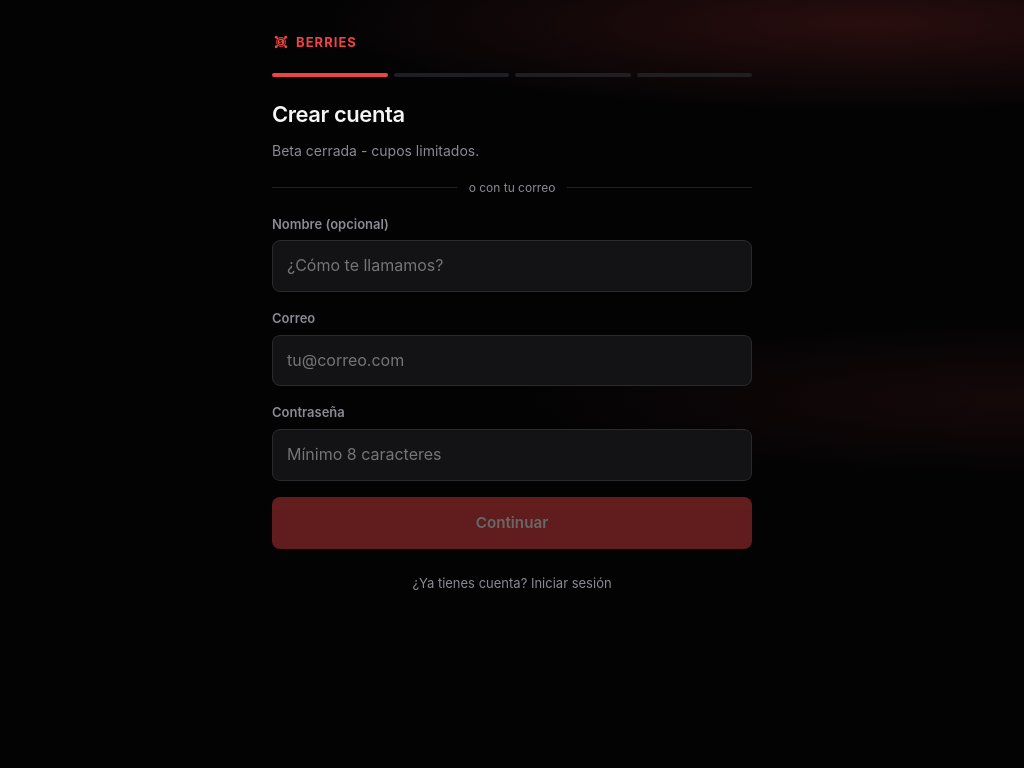
it: RegisterWizard › agregar una billetera la suma a la lista y limpia el mini-formulario
Type "ash@example.com" into the field labelled "Correo" at coordinates (512, 361), box top-left (272, 335), bottom-right (752, 386)
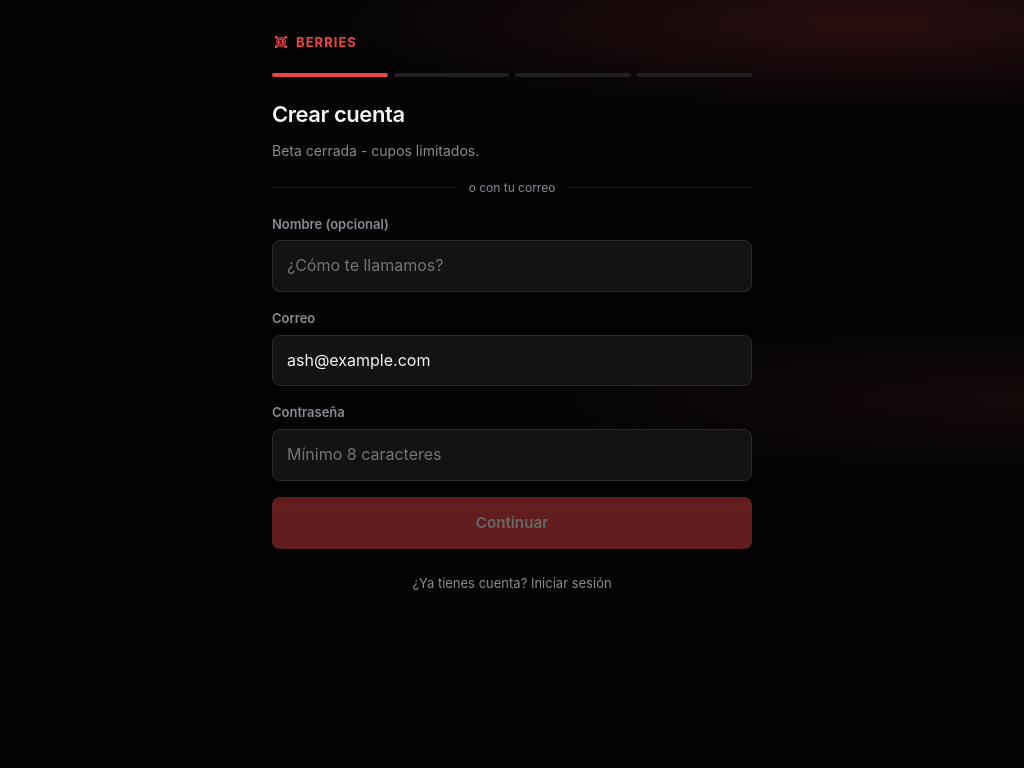
Type "clave12345" into the password field labelled "Contraseña" at coordinates (512, 455), box top-left (272, 429), bottom-right (752, 481)
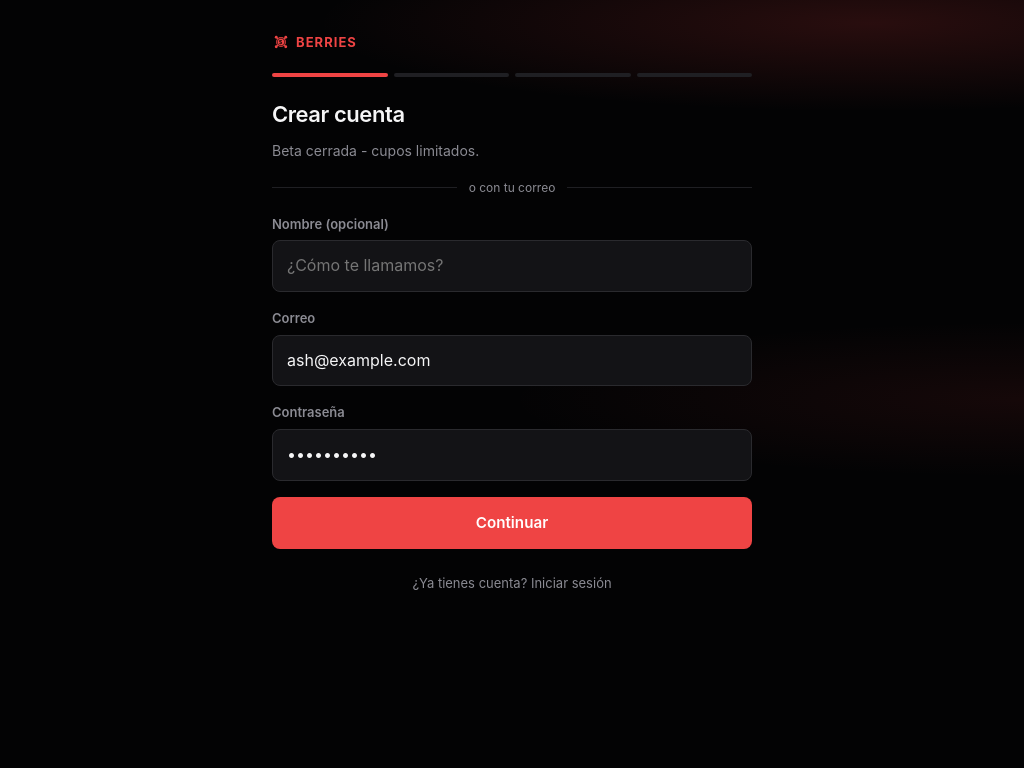
Submit the form, box top-left (272, 214), bottom-right (752, 549)
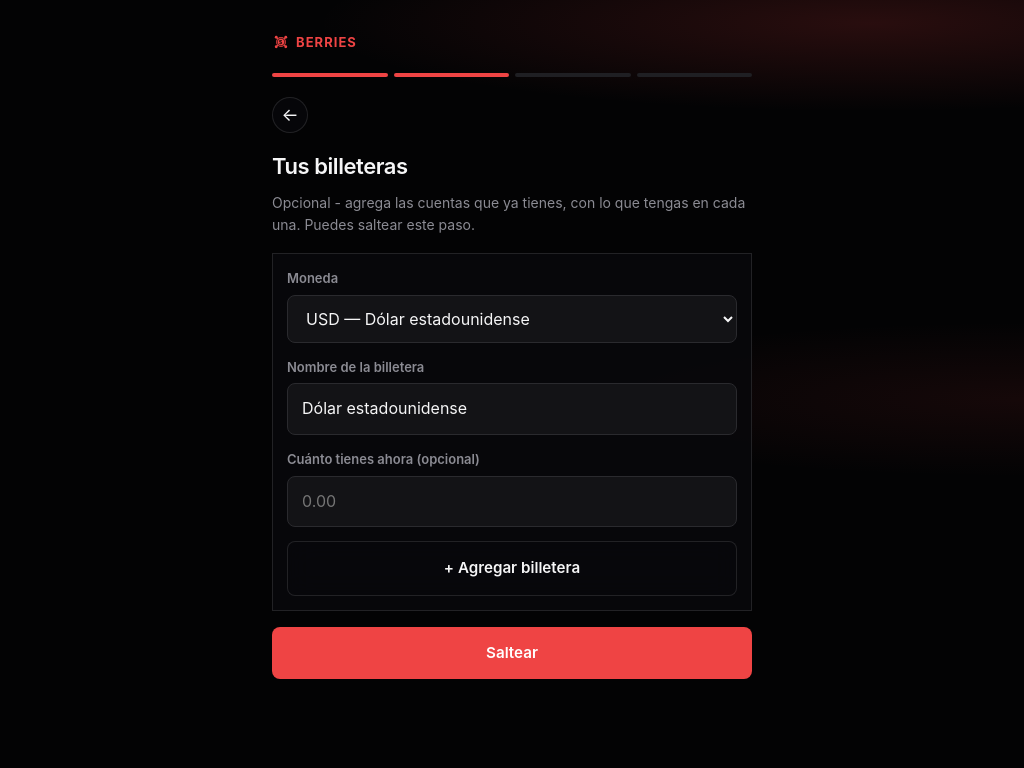
Select "USD — Dólar estadounidense" in the dropdown labelled "Moneda" at coordinates (512, 319), box top-left (287, 295), bottom-right (737, 343)
Replace the text in the field labelled "Nombre de la billetera" with "Facebank" at coordinates (512, 409), box top-left (287, 383), bottom-right (737, 435)
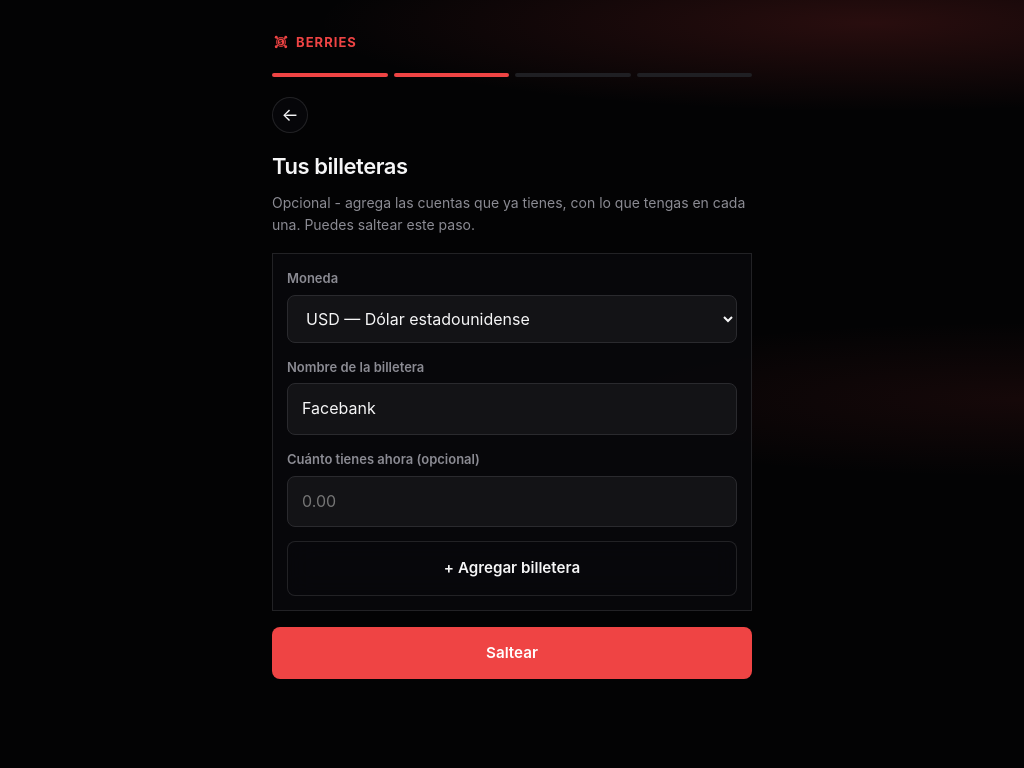
Type "150.50" into the number field labelled "Cuánto tienes ahora (opcional)" at coordinates (512, 502), box top-left (287, 476), bottom-right (737, 527)
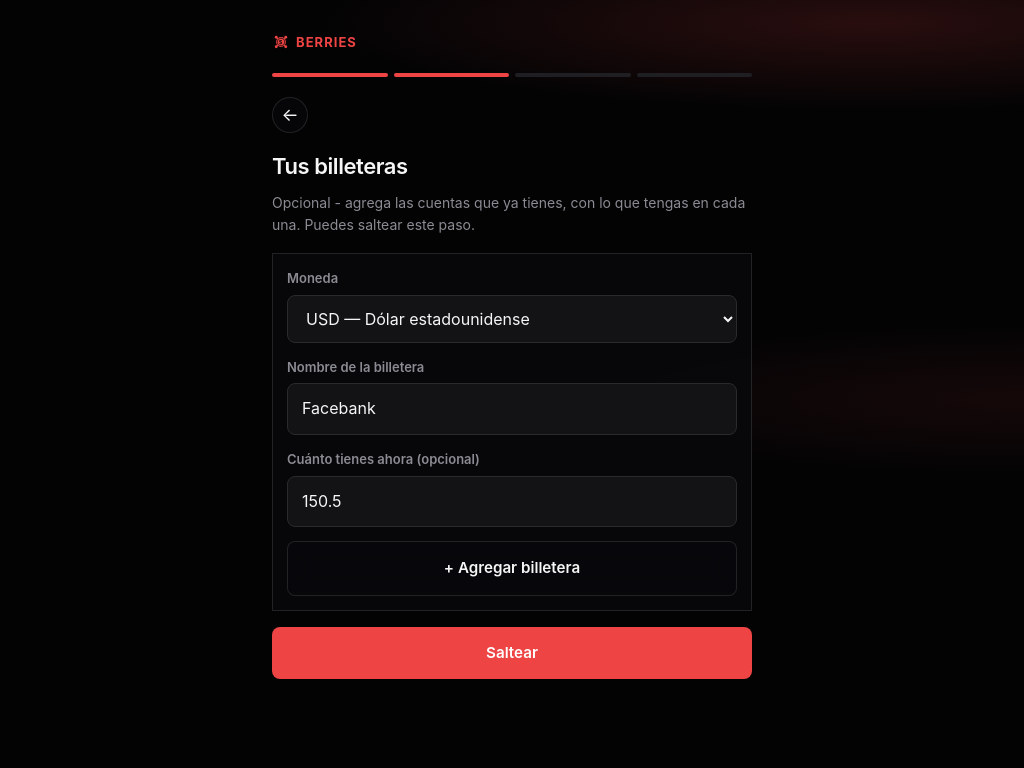
Click the button with class "wallet-add-button" at coordinates (512, 568), box top-left (287, 541), bottom-right (737, 596)
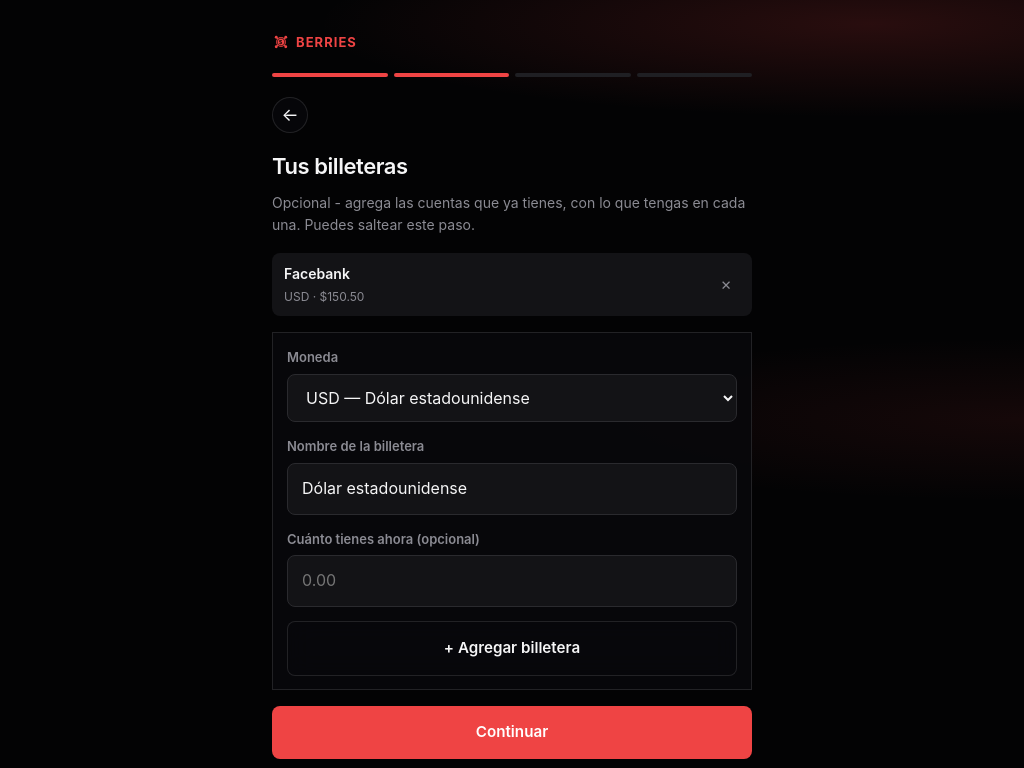
Now the number of list items with class "wallet-draft-item" is 1, box top-left (272, 253), bottom-right (752, 316)
Now the text with class "wallet-draft-name" reads "Facebank", box top-left (284, 265), bottom-right (350, 282)
Now the field labelled "Nombre de la billetera" does not hold "Facebank", box top-left (287, 463), bottom-right (737, 514)
